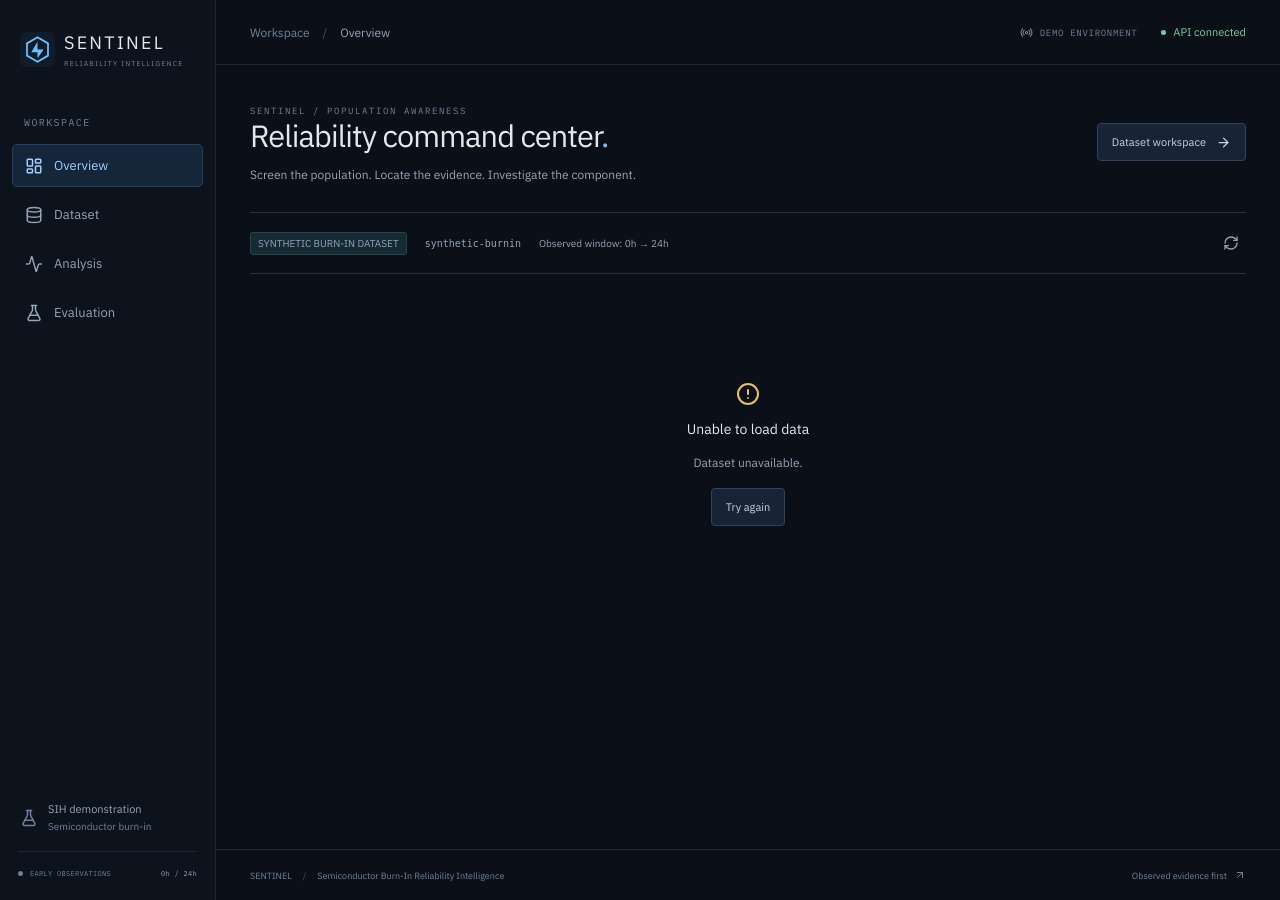
Test case: reports population API failures and provides retry
The image size is (1280, 900).
Expected: the message "Unable to load data Dataset unavailable. Try again" is shown, [687,382,809,526]
Click the button "Try again" at (748, 507), box [711,488,785,526]
(page scrolled)
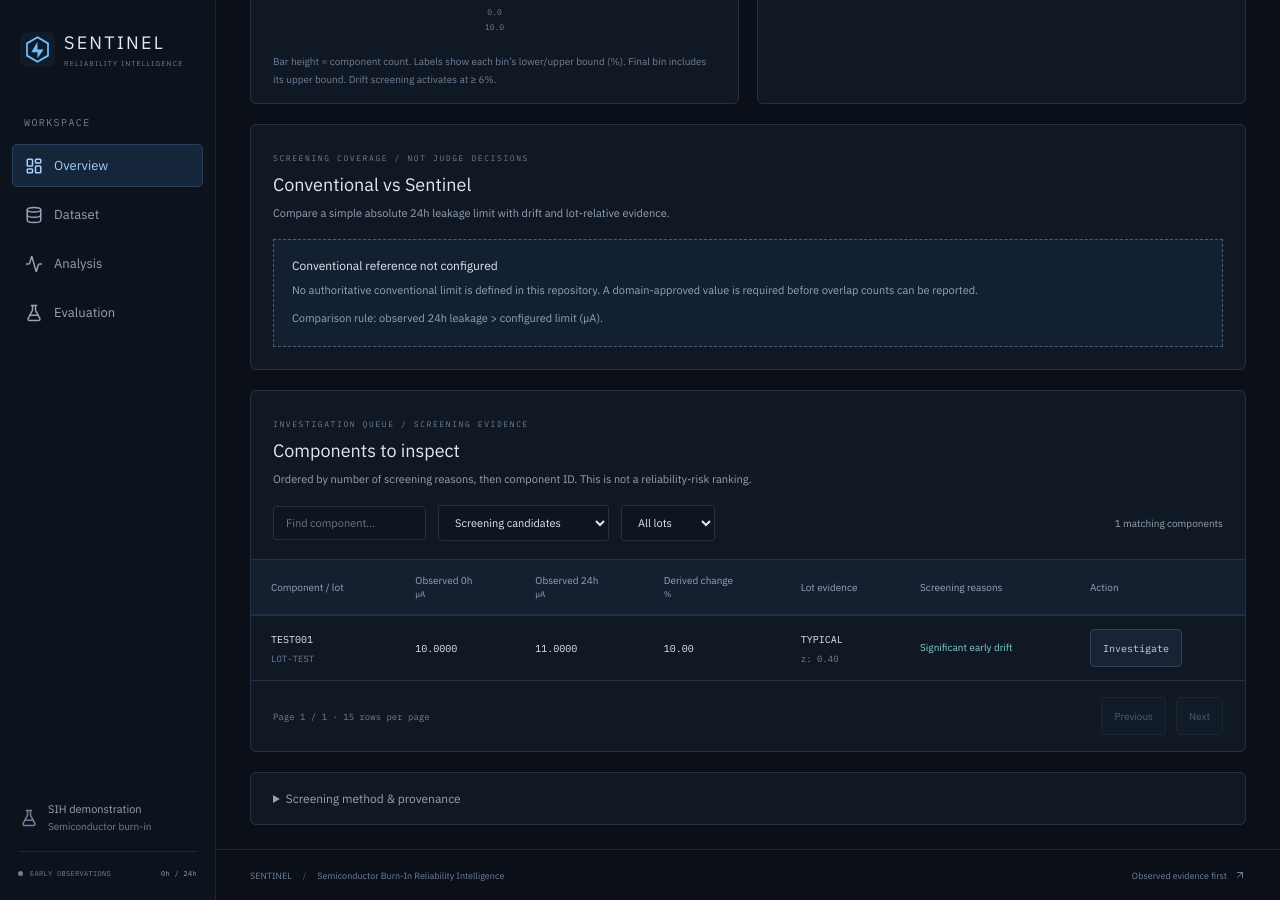
Result: the button with aria-label "Investigate TEST001" is shown at [1090,629,1182,667]
